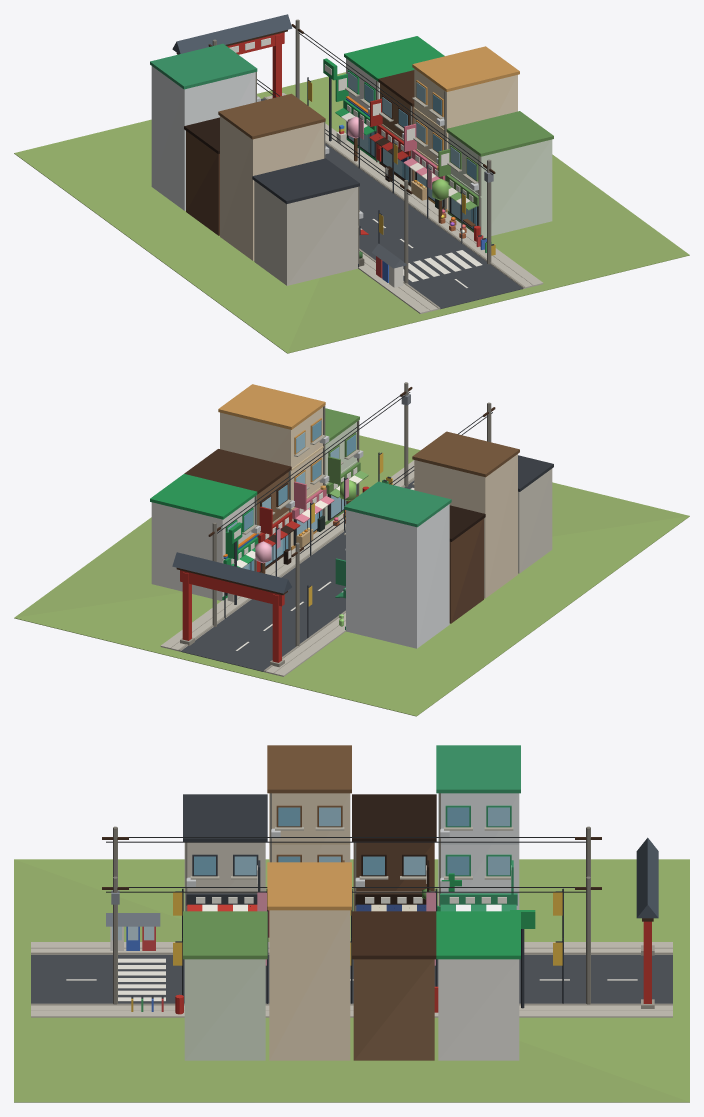
The model's file is japanshops.glb.
3 views of the same model, one above another, from view 1: azimuth 30°, elevation 25°; view 2: azimuth 150°, elevation 25°; view 3: azimuth 270°, elevation 25° (orthographic). The views are drawn at different scales.
Visible parts, largest first — view 1: Ground, Road, Sushi Bar Body, Bookshop Body, Pharmacy Body, Flower Shop Body, Bakery Body, Sidewalk Left, Flower Shop Roof Cap, Pharmacy Roof Cap, Bookshop Roof Cap, Bakery Roof Cap (+11 smaller); view 2: Ground, Pharmacy Body, Road, Bookshop Body, Convenience Store Body, Bakery Body, Tavern Body, Sushi Bar Body, Pharmacy Roof Cap, Bookshop Roof Cap, Bakery Roof Cap, Convenience Store Roof Cap (+13 smaller); view 3: Ground, Road, Bakery Body, Convenience Store Body, Ramen Shop Body, Flower Shop Body, Pharmacy Body, Convenience Store Roof Cap, Bakery Roof Cap, Flower Shop Roof Cap, Pharmacy Roof Cap, Bookshop Roof Cap (+19 smaller).
Boxes of the visible parts, box(x1,y1,x2,y2) form: Ground: box(14, 72, 689, 353); Road: box(261, 98, 523, 309); Sushi Bar Body: box(254, 181, 357, 285); Bookshop Body: box(220, 116, 323, 260); Pharmacy Body: box(151, 66, 255, 210); Flower Shop Body: box(448, 133, 552, 237); Bakery Body: box(414, 69, 517, 212); Sidewalk Left: box(263, 93, 543, 288); Flower Shop Roof Cap: box(446, 111, 553, 156); Pharmacy Roof Cap: box(150, 43, 257, 89); Bookshop Roof Cap: box(218, 93, 325, 139); Bakery Roof Cap: box(412, 46, 519, 91); Ground: box(14, 435, 689, 716); Pharmacy Body: box(346, 504, 449, 648); Road: box(180, 480, 414, 671); Bookshop Body: box(414, 454, 517, 598); Convenience Store Body: box(151, 497, 254, 600); Bakery Body: box(220, 407, 322, 546); Tavern Body: box(449, 518, 483, 623); Sushi Bar Body: box(518, 468, 552, 573); Pharmacy Roof Cap: box(344, 481, 451, 527); Bookshop Roof Cap: box(412, 431, 519, 477); Bakery Roof Cap: box(218, 384, 325, 429); Convenience Store Roof Cap: box(150, 474, 257, 519); Ground: box(14, 859, 689, 1102); Road: box(31, 955, 672, 1003); Bakery Body: box(269, 910, 350, 1060); Convenience Store Body: box(438, 959, 519, 1060); Ramen Shop Body: box(353, 959, 434, 1060); Flower Shop Body: box(184, 959, 265, 1060); Pharmacy Body: box(438, 793, 519, 909); Convenience Store Roof Cap: box(436, 911, 520, 959); Bakery Roof Cap: box(267, 862, 351, 910); Flower Shop Roof Cap: box(183, 911, 267, 959); Pharmacy Roof Cap: box(436, 745, 520, 793); Bookshop Roof Cap: box(267, 745, 351, 793).
Size of the model in its own units: 34 by 10.14 by 40.
